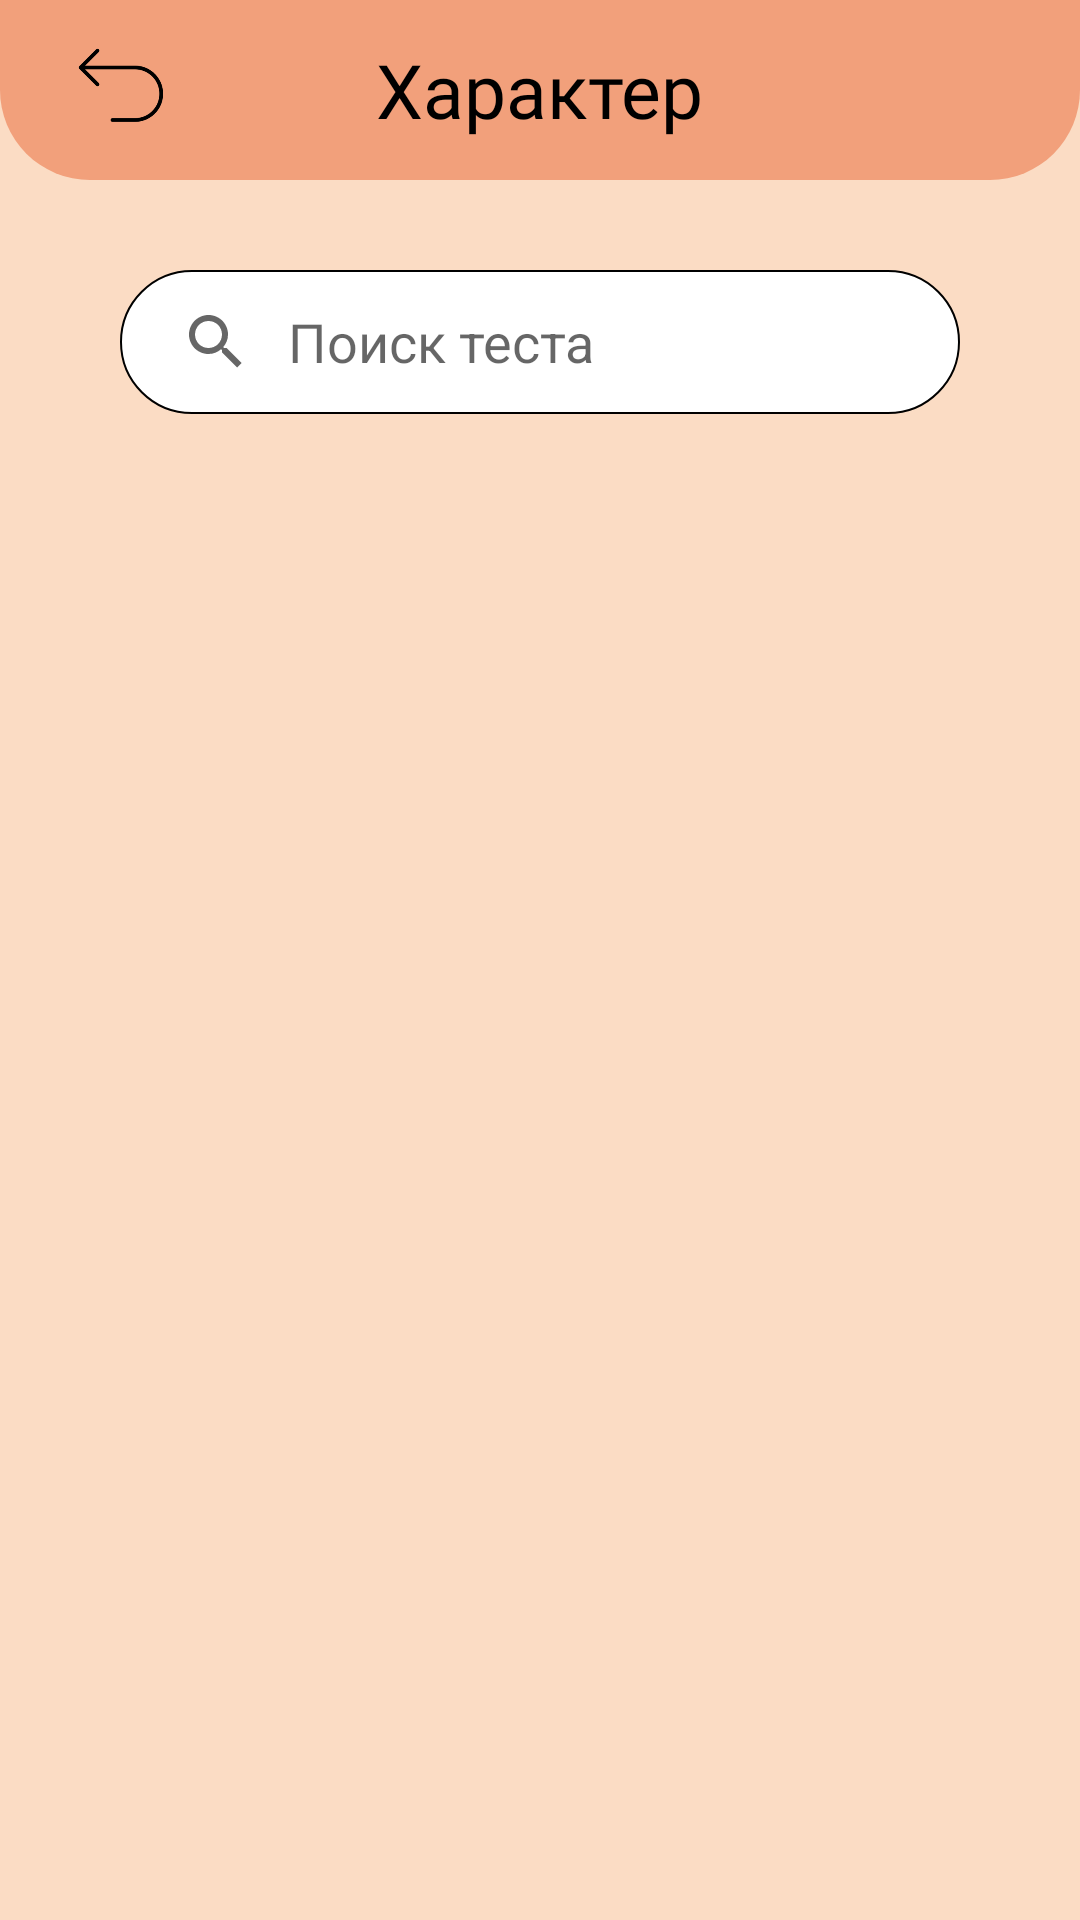

Icons on this 1080px×1920px Android screen, each with its box as bbox(x1, y1, x2, y2):
back: bbox(79, 49, 163, 122)
